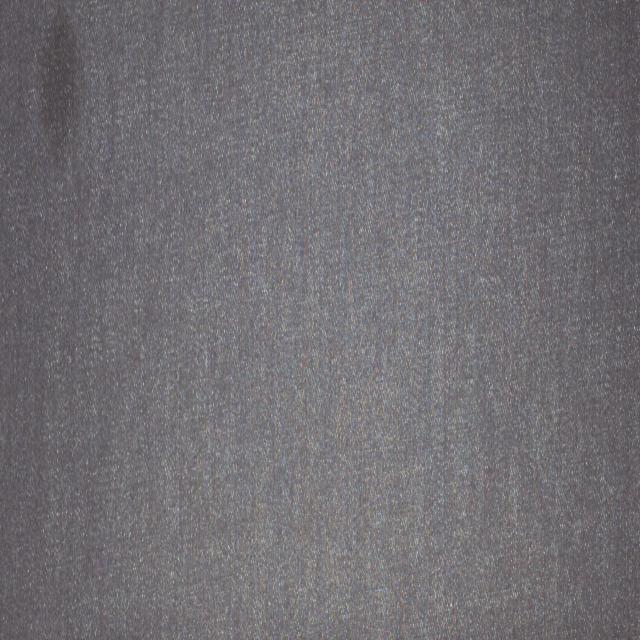Stain: (38, 2, 80, 153)
